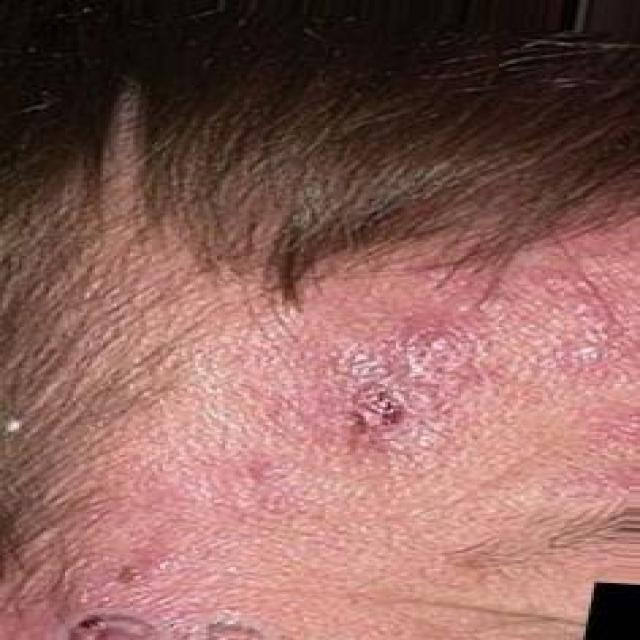Rosacea: (103, 240, 638, 598)
